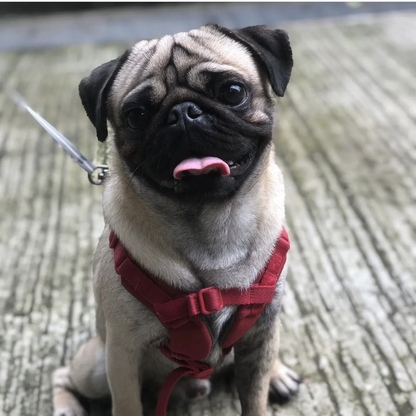Pug: (45, 18, 308, 416)
